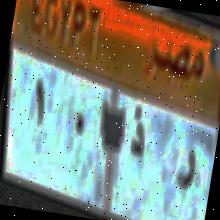0: (63, 96, 92, 147)
1: (23, 76, 55, 140)
raa: (170, 141, 202, 200)
zaal: (121, 102, 152, 166)
